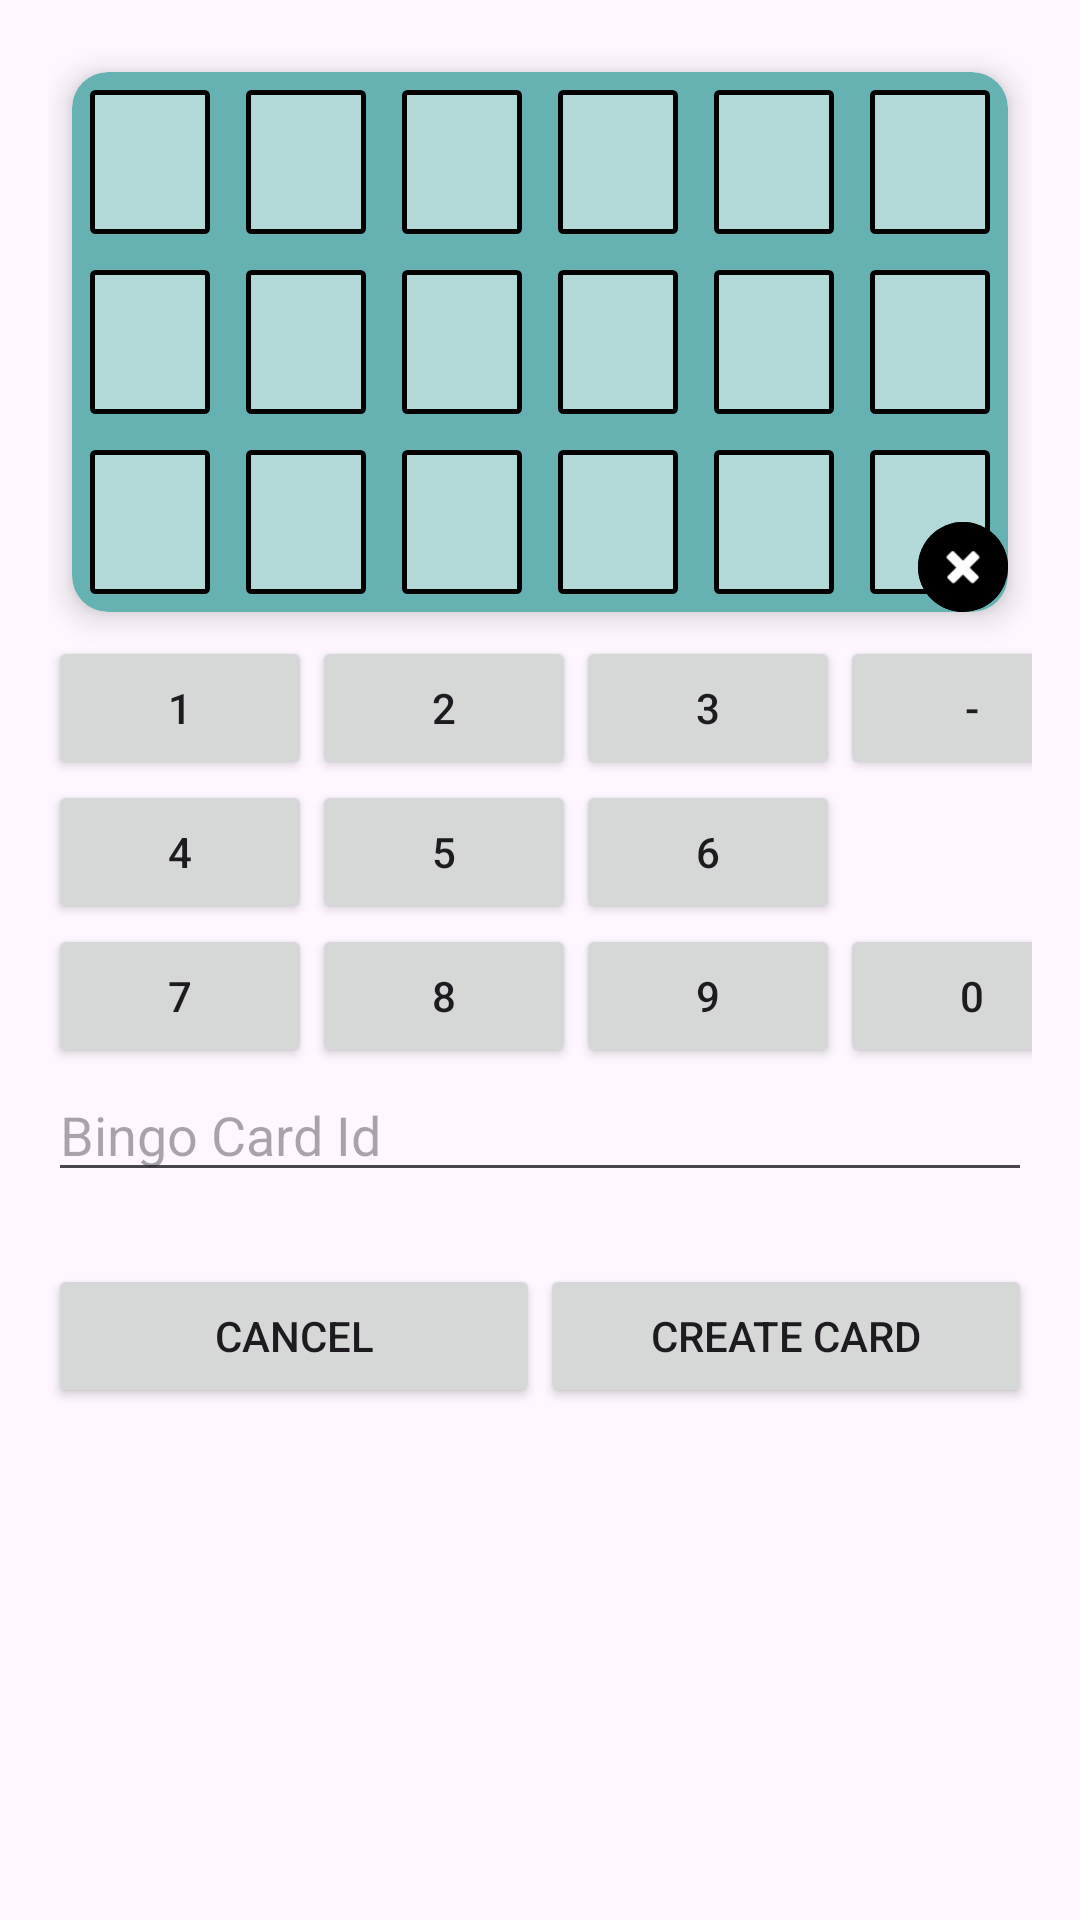

Icons on this 1080 x 1920 Android screen, each with the point to tap as point (x, y):
delete: point (963, 567)
